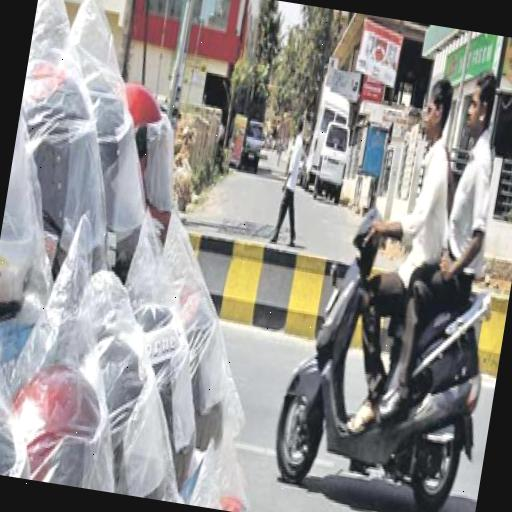no helmet: (288, 56, 466, 490)
